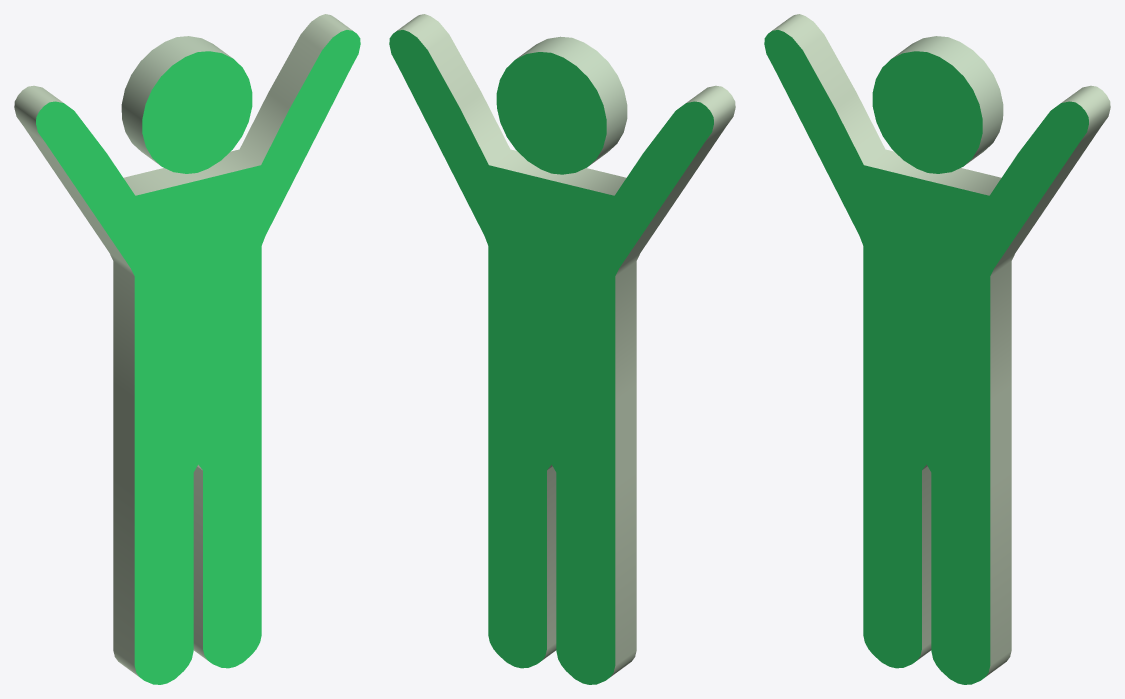
Rendered from Dummy Male Up.fbx.
3 views of the same model, side by side, from view 1: azimuth 30°, elevation 25°; view 2: azimuth 150°, elevation 25°; view 3: azimuth 330°, elevation 25° (orthographic).
Parts seen in each view (by area): view 1: Male Dummy Up; view 2: Male Dummy Up; view 3: Male Dummy Up.
Part boxes in pixels (box(x1,y1,x2,y2)): Male Dummy Up: box(14, 14, 360, 684); Male Dummy Up: box(389, 14, 735, 684); Male Dummy Up: box(764, 14, 1110, 684).
Bounding box in the file's own units: 1.08 × 1.99 × 0.1244.
